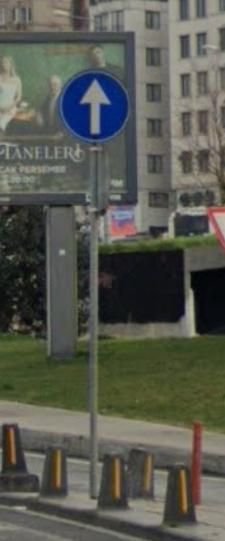forward: (60, 70, 131, 140)
